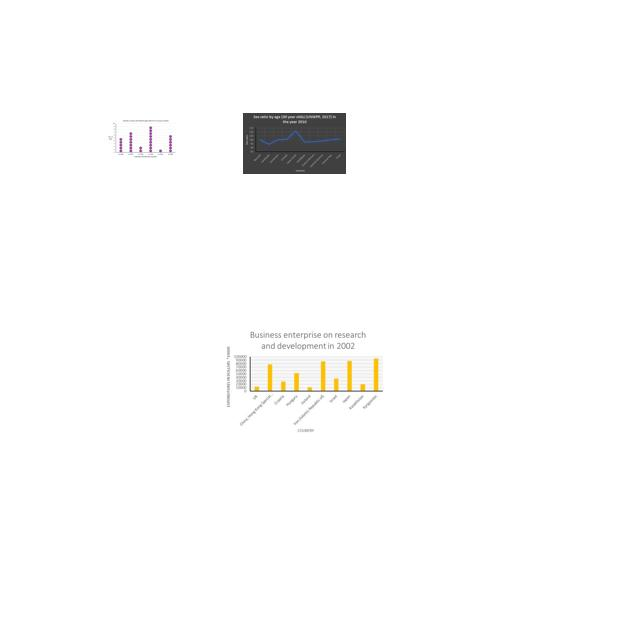Graph: (224, 327, 386, 435), (243, 113, 346, 174), (106, 119, 177, 159)
